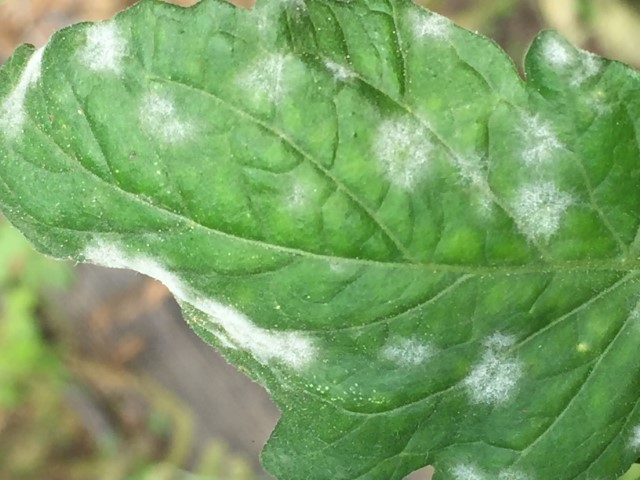oidio: (191, 288, 318, 375), (81, 234, 188, 305), (463, 329, 524, 408), (372, 116, 435, 191), (508, 180, 578, 245), (1, 45, 43, 140), (449, 148, 498, 223), (513, 108, 567, 167), (75, 20, 129, 75), (141, 89, 194, 143), (242, 51, 294, 106), (380, 332, 437, 372), (408, 7, 452, 42), (572, 48, 602, 90), (540, 34, 573, 71), (323, 57, 359, 82), (448, 459, 485, 480), (290, 178, 313, 209), (586, 91, 613, 116), (494, 462, 528, 480), (625, 424, 640, 455), (256, 13, 270, 32), (626, 307, 638, 322)
